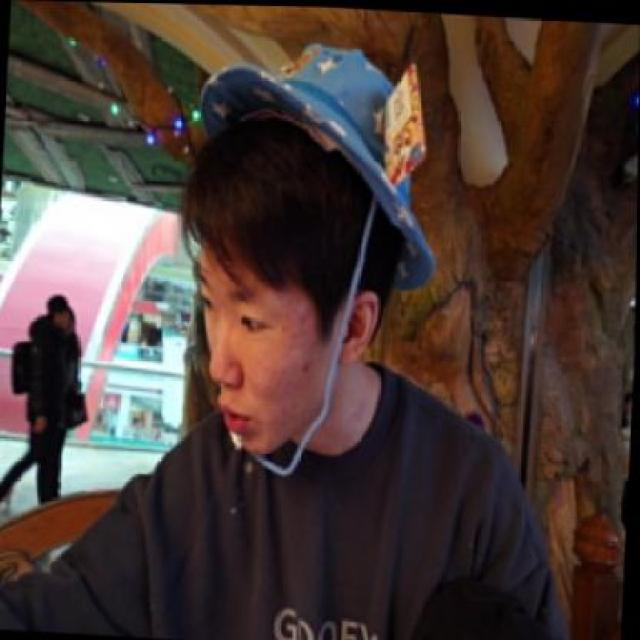hat: (199, 43, 437, 288)
